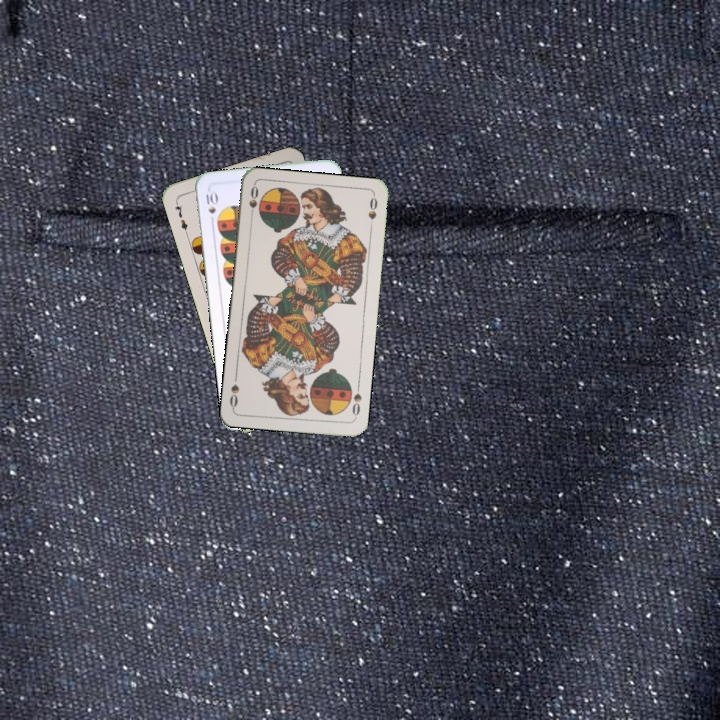E7: (171, 197, 190, 237)
S10: (202, 187, 219, 227)
SO: (245, 182, 261, 223), (348, 381, 364, 421)
